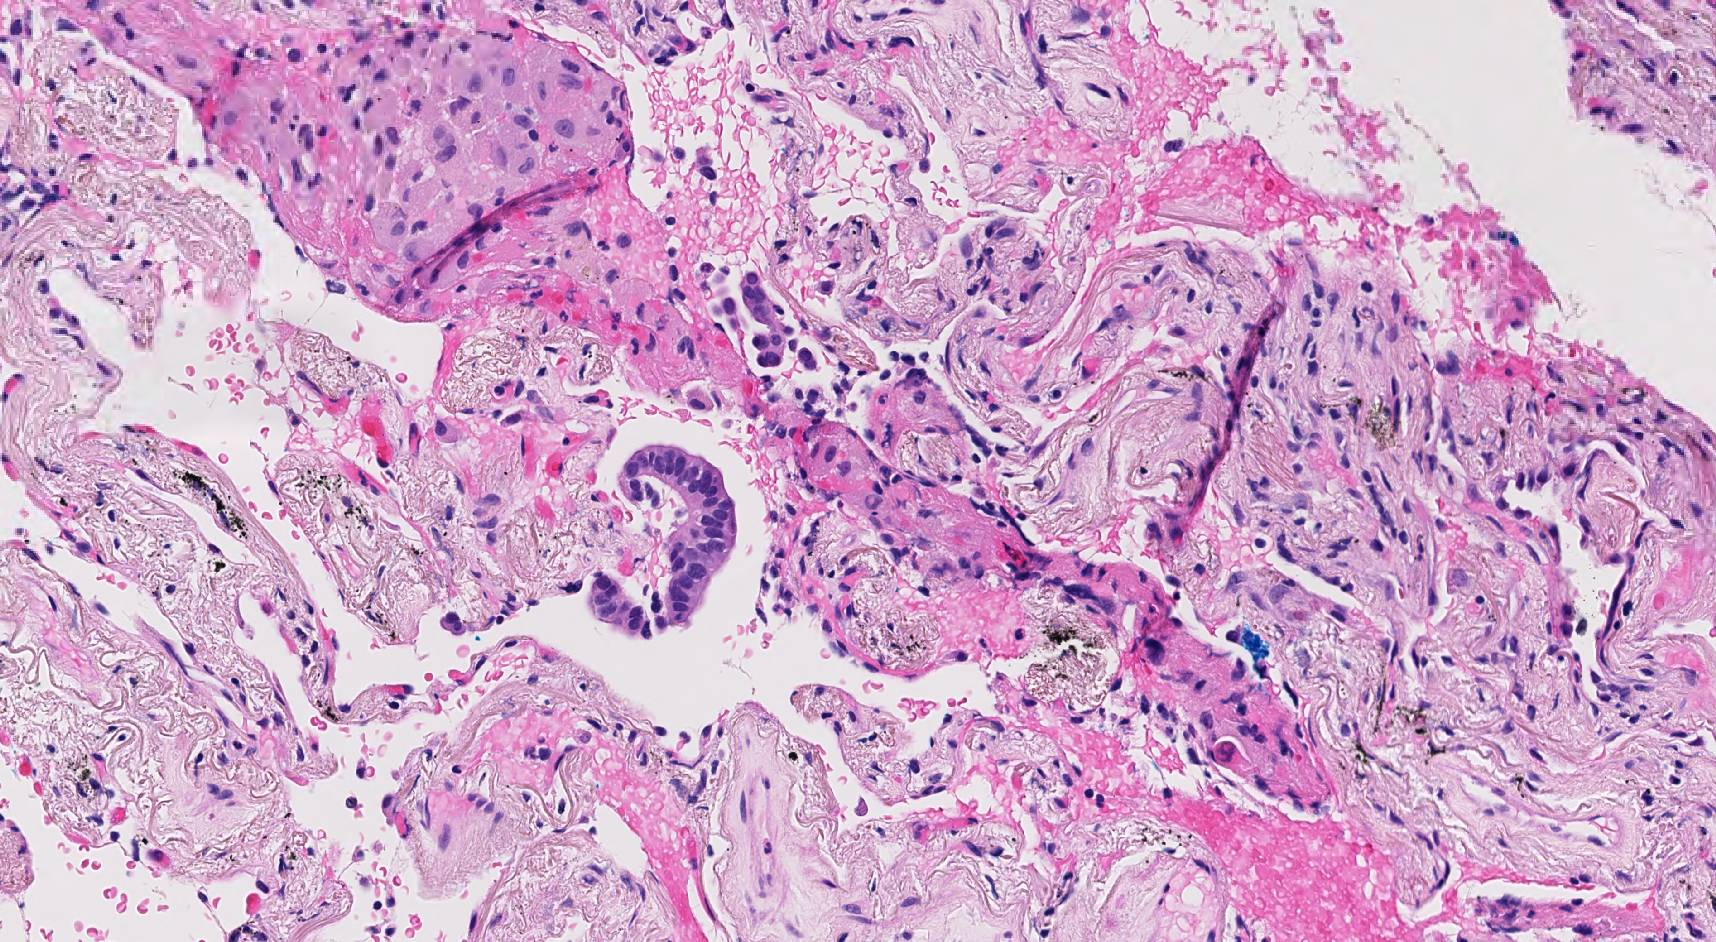stas: (582, 439, 742, 639), (735, 269, 817, 377)
